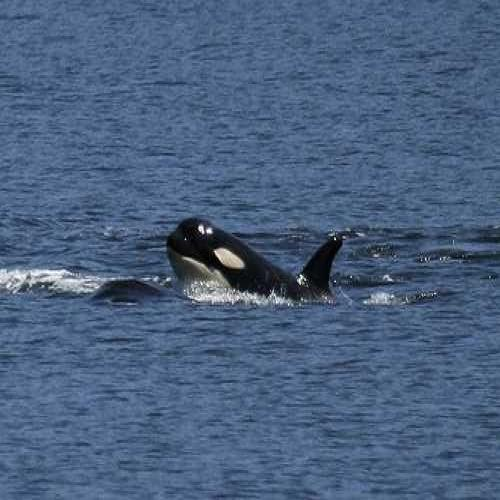killer_whale-endangered: (158, 192, 359, 321)
